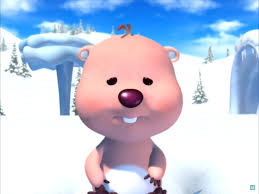Loopy: (73, 24, 186, 193)
